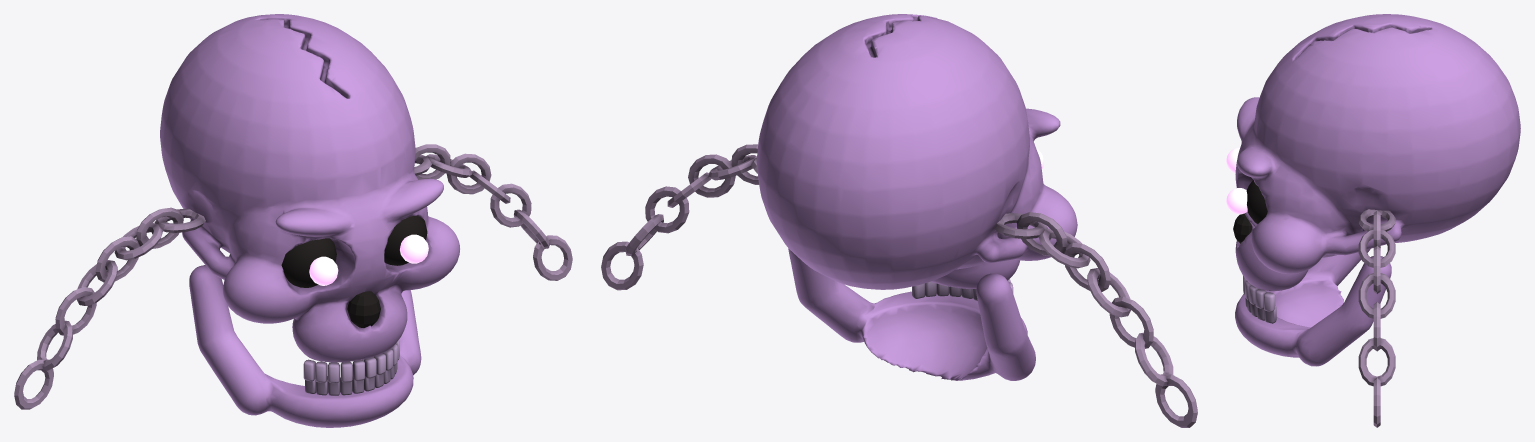
The model's file is emb_caveira_roxa.glb.
3 views of the same model, side by side, from view 1: azimuth 30°, elevation 25°; view 2: azimuth 150°, elevation 25°; view 3: azimuth 270°, elevation 25° (orthographic). The views are drawn at different scales.
Visible parts, largest first — view 1: emb_caveira_roxa; view 2: emb_caveira_roxa; view 3: emb_caveira_roxa.
Boxes of the visible parts, box(x1,y1,x2,y2) form: emb_caveira_roxa: box(14, 14, 572, 427); emb_caveira_roxa: box(601, 14, 1197, 427); emb_caveira_roxa: box(1226, 14, 1520, 427).
Size of the model in its own units: 0.2283 by 0.1375 by 0.1146.
